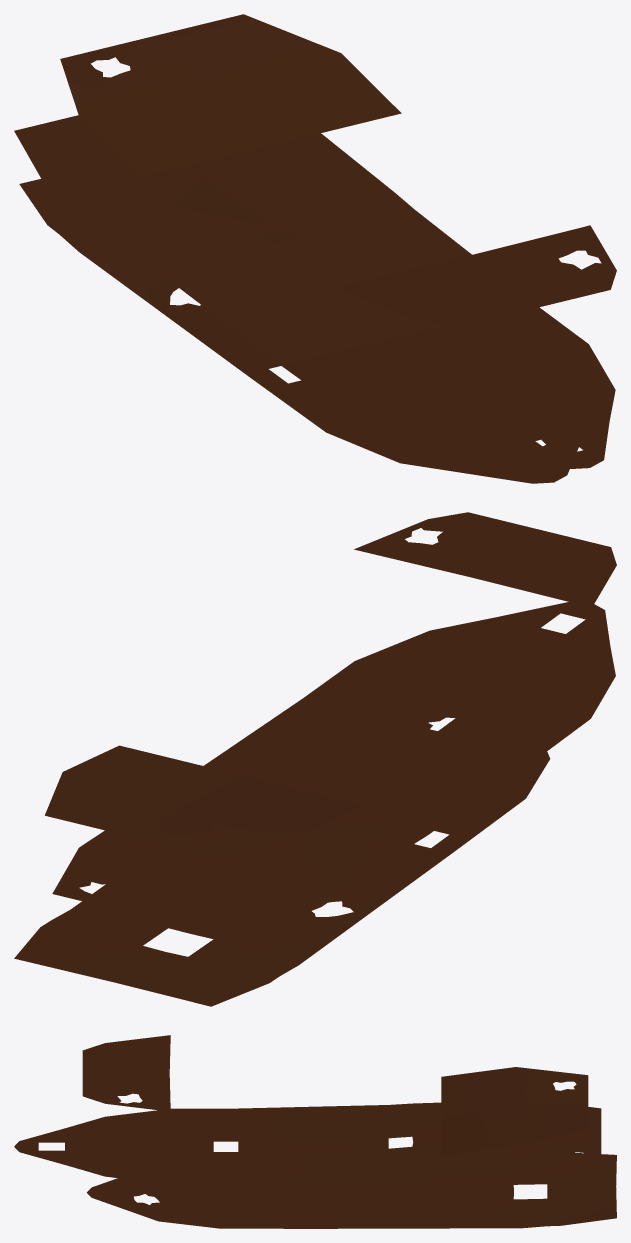
File: NavMesh.fbx
The picture shows the model from 3 angles, top to bottom: view 1: azimuth 30°, elevation 25°; view 2: azimuth 150°, elevation 25°; view 3: azimuth 270°, elevation 25°; orthographic projection. The views are drawn at different scales.
Parts seen in each view (by area): view 1: Piso.004, Piso.006, Piso.005, Piso.007; view 2: Piso.004, Piso.005, Piso.006, Piso.007; view 3: Piso.004, Piso.005, Piso.006, Piso.007.
Part boxes in pixels (x1,y1,x2,y2): Piso.004: (14, 115, 615, 469); Piso.006: (60, 14, 401, 177); Piso.005: (19, 179, 578, 483); Piso.007: (336, 225, 616, 326); Piso.004: (52, 602, 615, 939); Piso.005: (14, 710, 550, 1006); Piso.006: (45, 745, 364, 857); Piso.007: (354, 512, 616, 607); Piso.004: (14, 1102, 601, 1184); Piso.005: (87, 1152, 616, 1228); Piso.006: (441, 1067, 588, 1155); Piso.007: (82, 1035, 170, 1111).
Size of the model in its own units: 4012 by 2424 by 11798.
